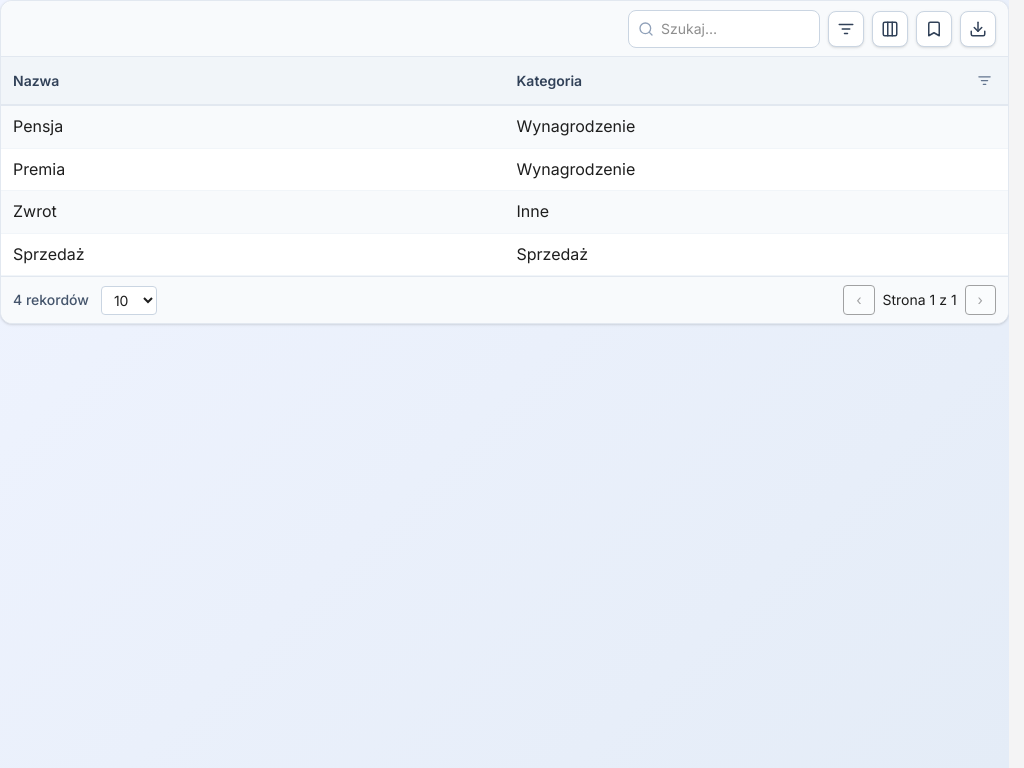
Test: DataGrid inline editing › opens a highlighted multi-select filter from a column header context menu
Right-click the column heading "Kategoria" at (756, 82), box [504,57,1008,106]
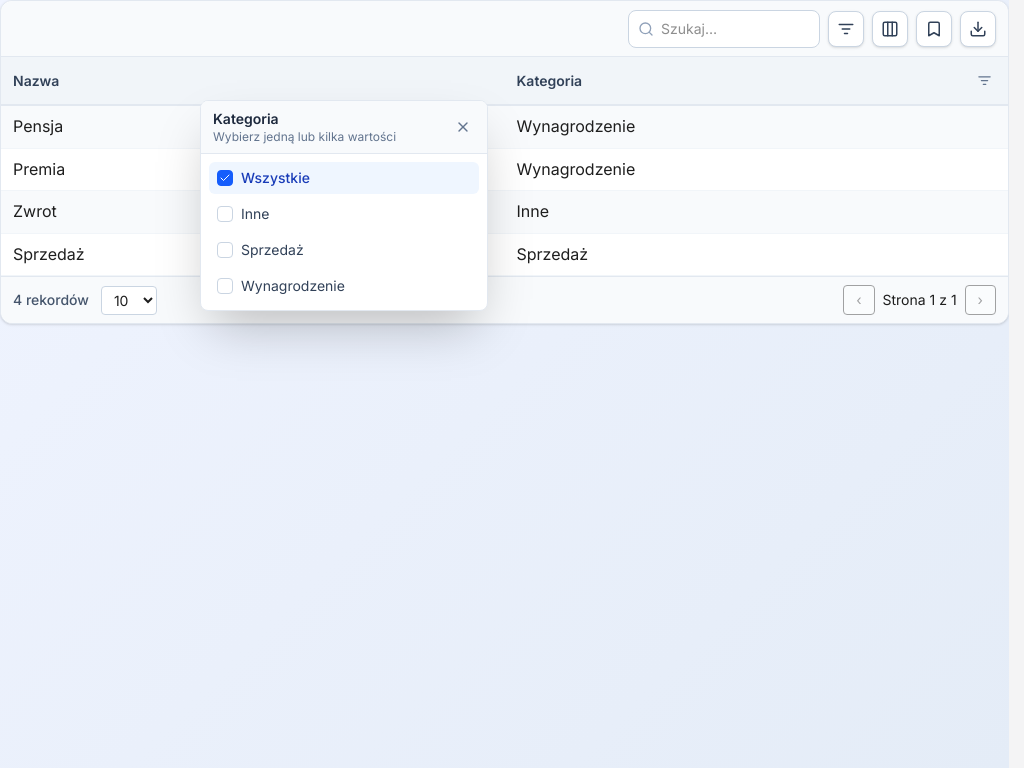
Expected: the menu named "Filtr kolumny Kategoria" is shown, [200,100,488,311]
Click the menu item "Wynagrodzenie". click: (344, 286)
box: [209,270,479,302]
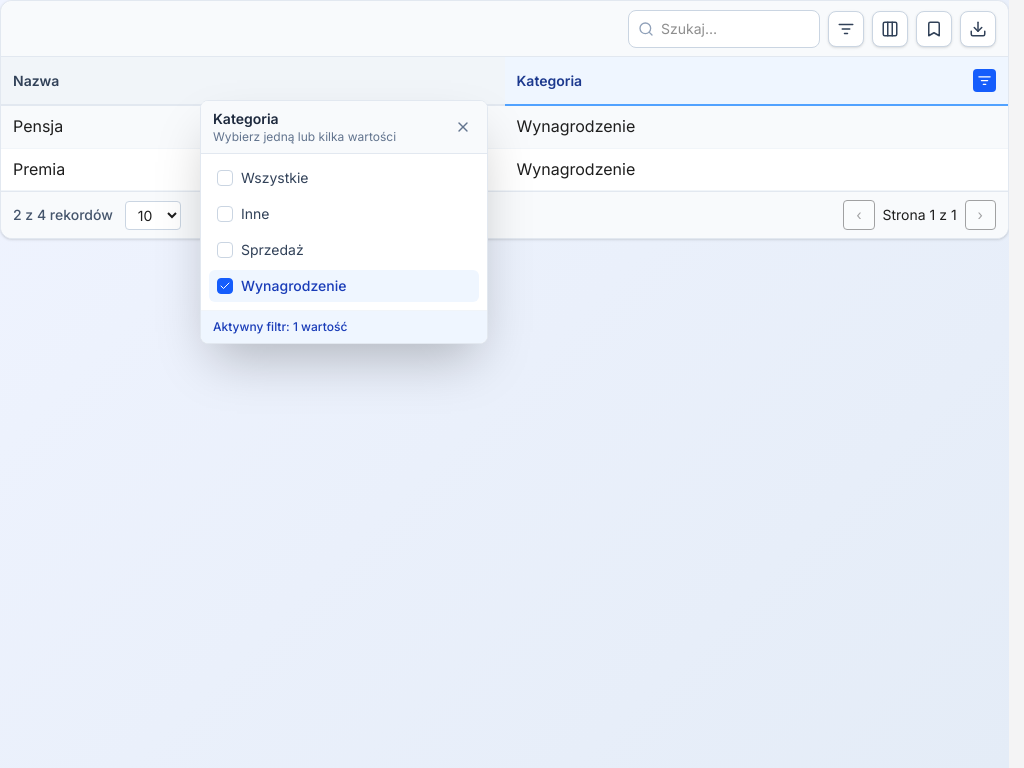
Click the menu item "Inne". click: (225, 214)
box: [209,198,479,230]
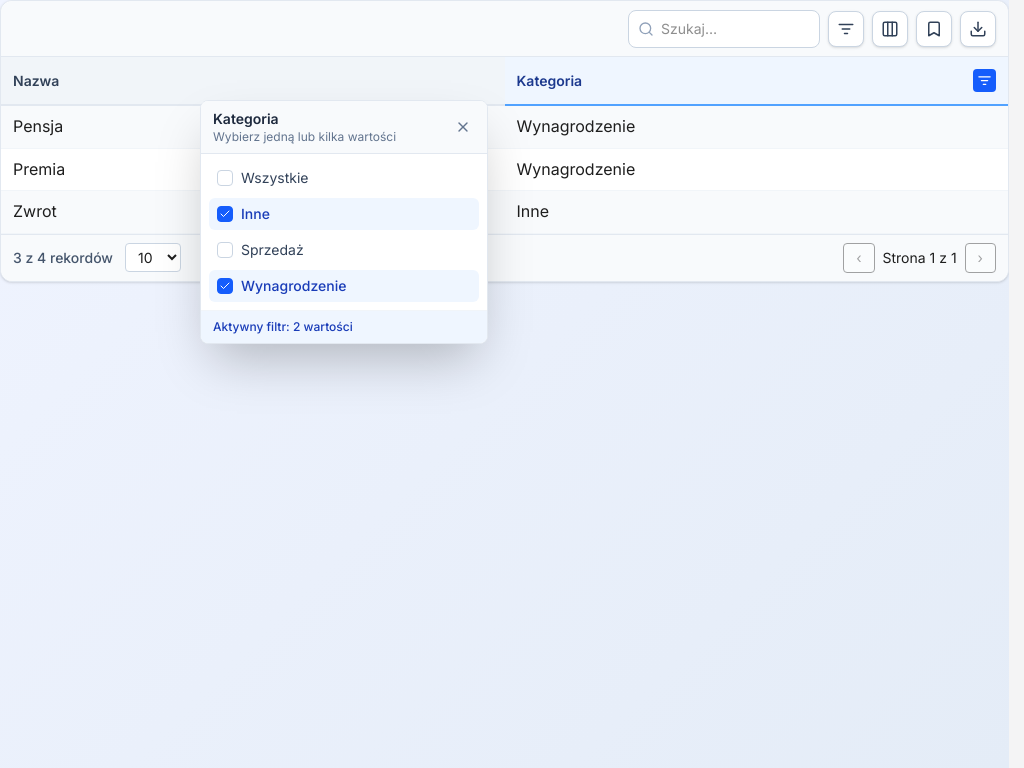
Expected: the cell "Pensja" is shown, [1,106,504,149]
Expected: the cell "Zwrot" is shown, [1,191,504,234]
